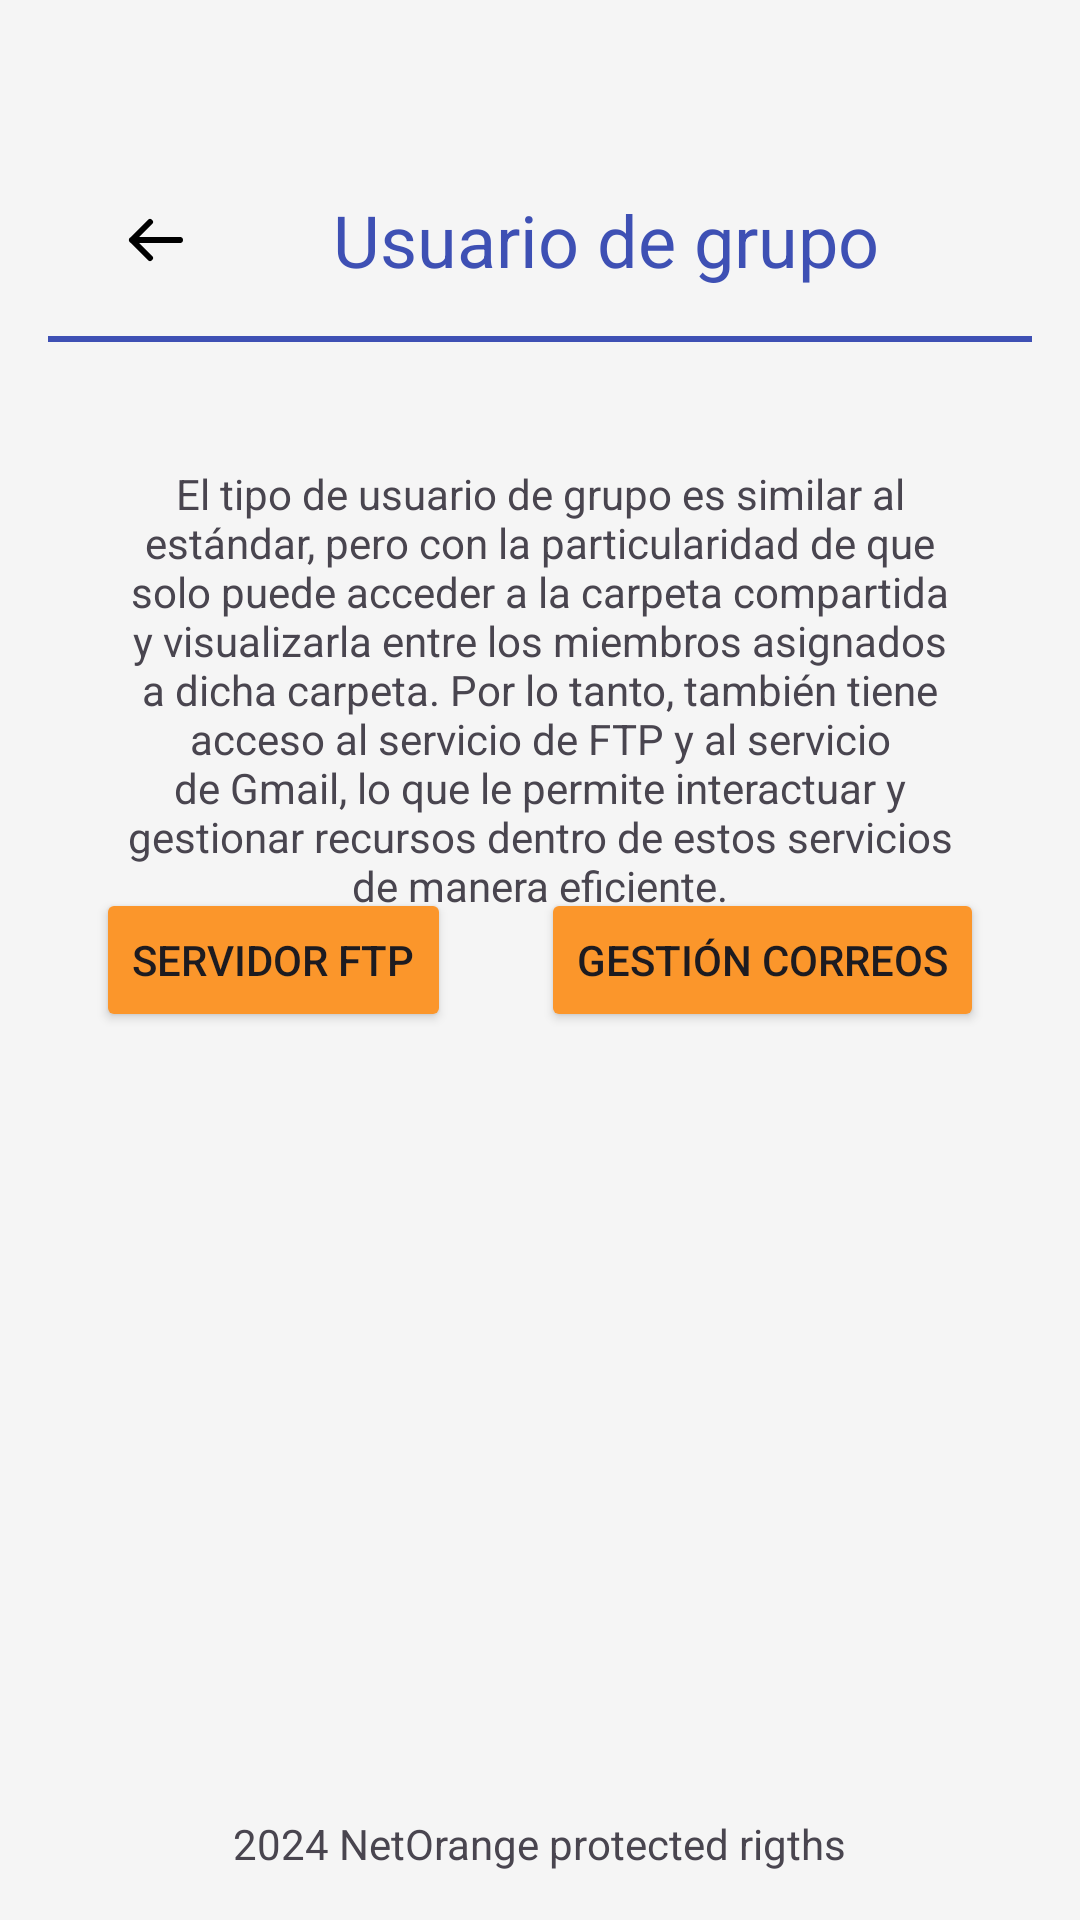

Icons on this 1080 x 1920 Android screen, each with the point to tap as (x=x, y=y):
Volver atrás: (x=156, y=240)
